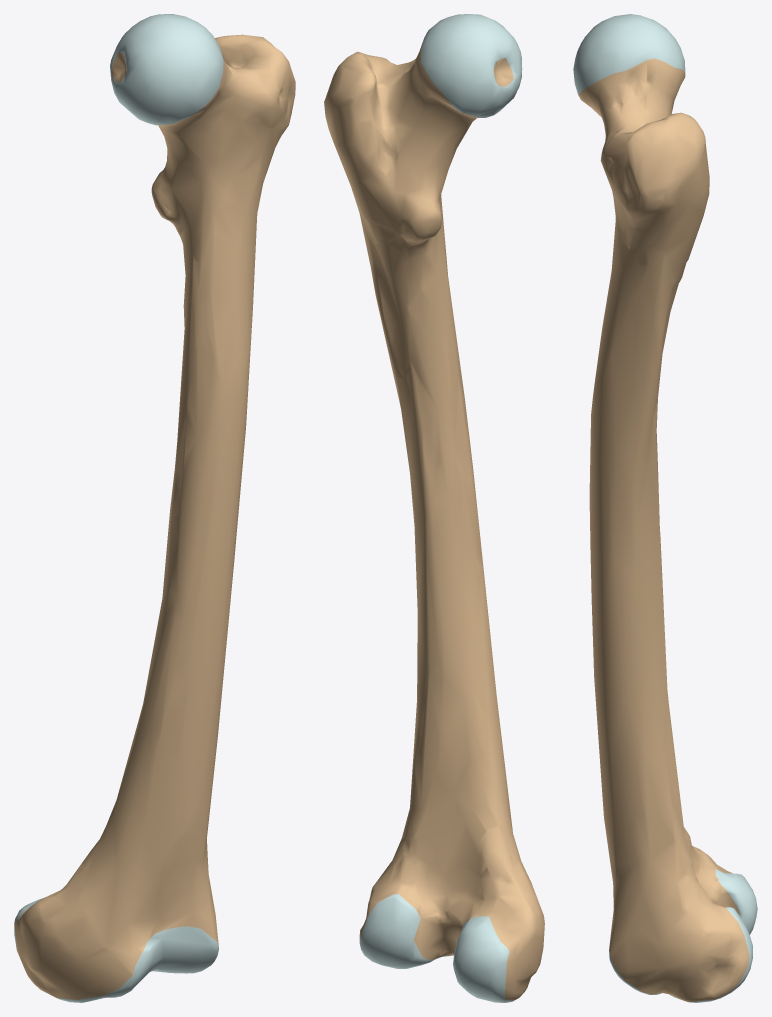
Rendered from FermurLeft.glb.
3 views of the same model, side by side, from view 1: azimuth 30°, elevation 25°; view 2: azimuth 150°, elevation 25°; view 3: azimuth 270°, elevation 25° (orthographic). The views are drawn at different scales.
Visible parts, largest first — view 1: Femur.l_Generated_Mesh_From_X3D.867; view 2: Femur.l_Generated_Mesh_From_X3D.867; view 3: Femur.l_Generated_Mesh_From_X3D.867.
Part boxes in pixels (<box>): Femur.l_Generated_Mesh_From_X3D.867: <box>14,14,295,1002</box>; Femur.l_Generated_Mesh_From_X3D.867: <box>324,14,544,1002</box>; Femur.l_Generated_Mesh_From_X3D.867: <box>573,14,757,1002</box>.
Size of the model in its own units: 0.1166 by 0.4544 by 0.0781.
